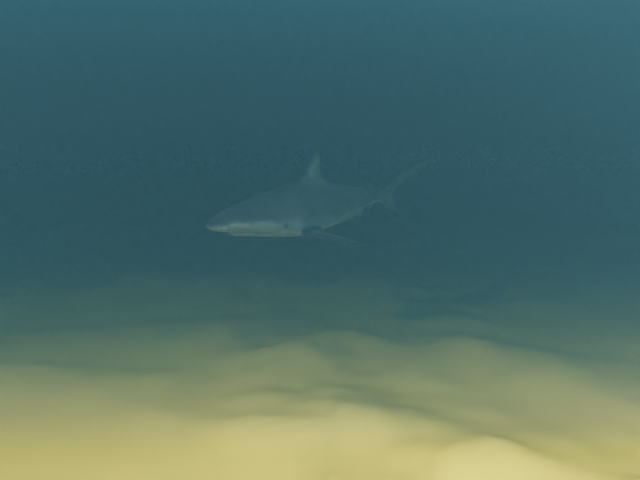Carribean Shark.001: (205, 149, 440, 246)
